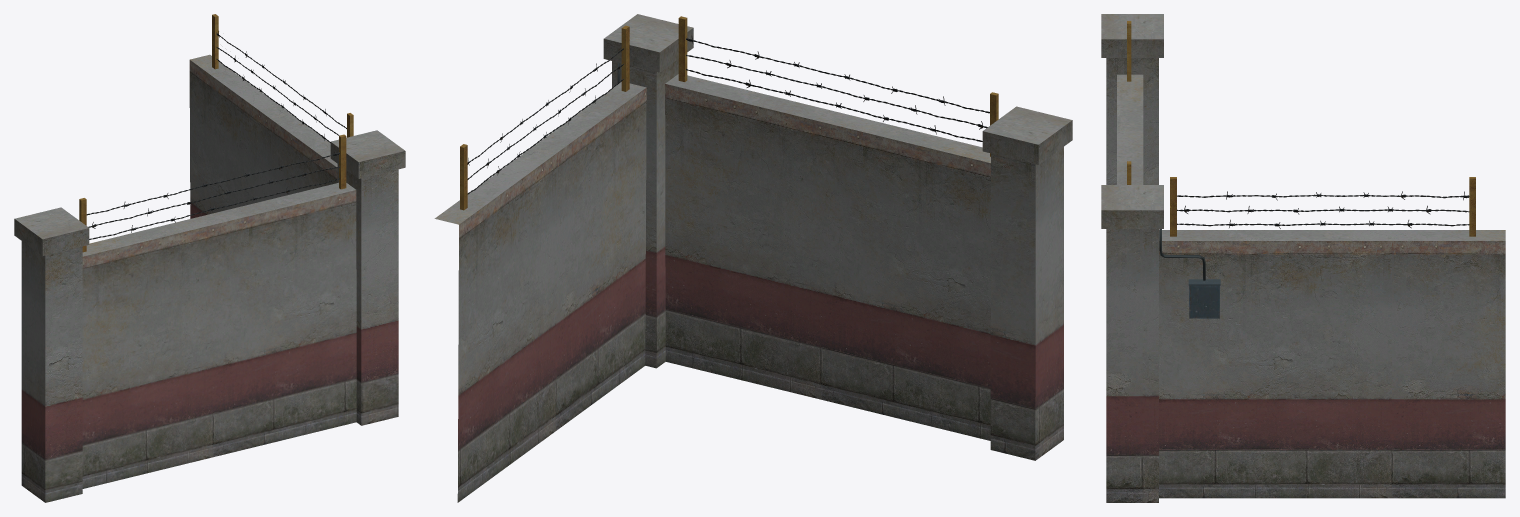
File: Cover_Jz0013c.glb
3 renders of one model, left to right at view 1: azimuth 30°, elevation 25°; view 2: azimuth 150°, elevation 25°; view 3: azimuth 270°, elevation 25°, orthographic. The views are drawn at different scales.
Parts seen in each view (by area): view 1: xiutz_jz0013c; view 2: xiutz_jz0013c; view 3: xiutz_jz0013c.
Boxes of the visible parts, x1,y1,x2,y2 form: xiutz_jz0013c: (14, 14, 405, 502); xiutz_jz0013c: (434, 14, 1072, 502); xiutz_jz0013c: (1101, 14, 1505, 502).
Size of the model in its own units: 5.74 by 4.3 by 5.
1 material, 1 textured.
